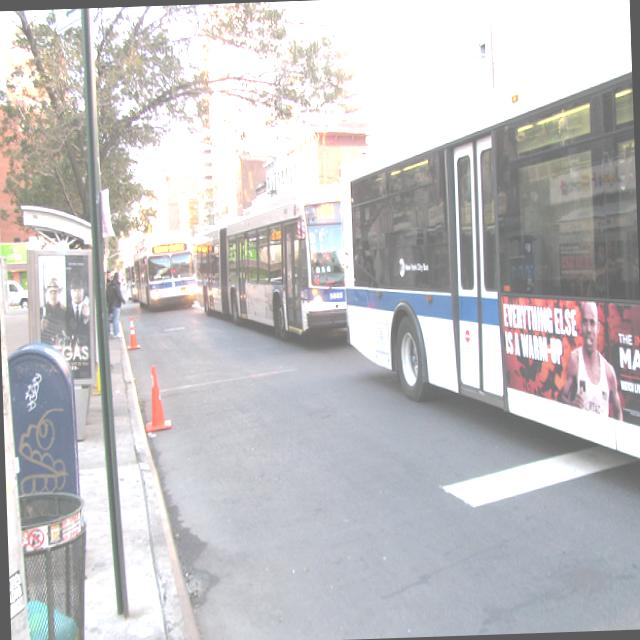Vehicle: (330, 0, 640, 479), (190, 191, 350, 341), (135, 236, 198, 312), (124, 263, 138, 301)
